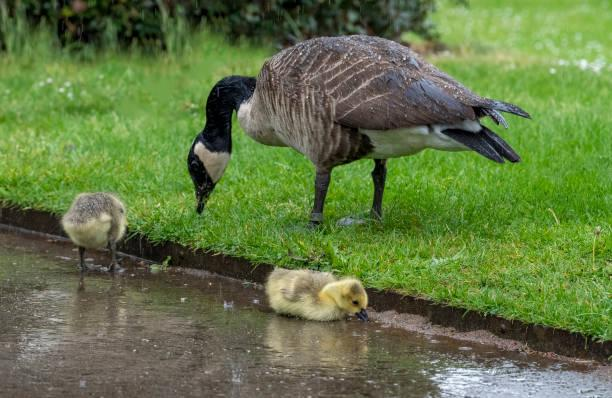Canadian-Goose: (187, 32, 524, 219), (268, 261, 368, 322), (60, 191, 128, 272)
